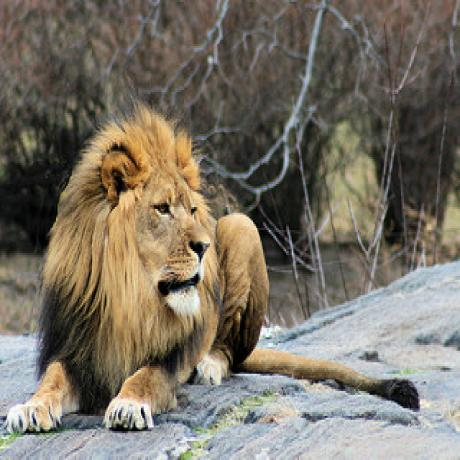Lion: (11, 112, 265, 432)
